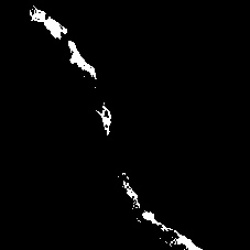crack: (119, 174, 199, 248), (29, 6, 66, 39), (67, 41, 96, 78), (97, 102, 109, 136)
